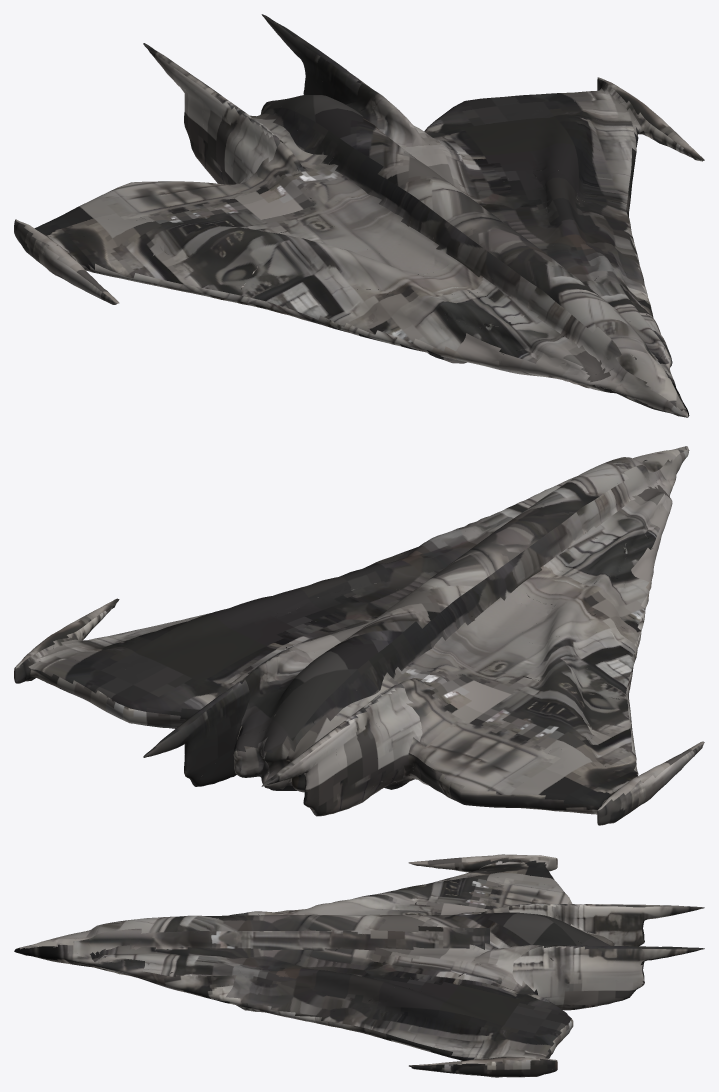
File: naves Enemiga 2 .fbx
3 renders of one model, top to bottom at view 1: azimuth 30°, elevation 25°; view 2: azimuth 150°, elevation 25°; view 3: azimuth 270°, elevation 25°, orthographic. The views are drawn at different scales.
Visible parts, largest first — view 1: Nave enemiga 2, Nave enemiga 2_cell.001, Nave enemiga 2_cell.007, Nave enemiga 2_cell.013, Nave enemiga 2_cell.063, Nave enemiga 2_cell.015, Nave enemiga 2_cell.025, Nave enemiga 2_cell.062, Nave enemiga 2_cell.017, Nave enemiga 2_cell.072, Nave enemiga 2_cell.023, Nave enemiga 2_cell.032 (+29 smaller); view 2: Nave enemiga 2, Nave enemiga 2_cell.001, Nave enemiga 2_cell.050, Nave enemiga 2_cell.088, Nave enemiga 2_cell.017, Nave enemiga 2_cell.040, Nave enemiga 2_cell.032, Nave enemiga 2_cell.072, Nave enemiga 2_cell.013, Nave enemiga 2_cell.007, Nave enemiga 2_cell.041, Nave enemiga 2_cell.016 (+31 smaller); view 3: Nave enemiga 2, Nave enemiga 2_cell.072, Nave enemiga 2_cell.073, Nave enemiga 2_cell.078, Nave enemiga 2_cell.001, Nave enemiga 2_cell.062, Nave enemiga 2_cell.032, Nave enemiga 2_cell.054, Nave enemiga 2_cell.036, Nave enemiga 2_cell.041, Nave enemiga 2_cell.097, Nave enemiga 2_cell.029 (+16 smaller).
Boxes of the visible parts, x1,y1,x2,y2 form: Nave enemiga 2: [14, 14, 704, 417]; Nave enemiga 2_cell.001: [154, 177, 317, 258]; Nave enemiga 2_cell.007: [265, 246, 406, 295]; Nave enemiga 2_cell.013: [499, 269, 617, 355]; Nave enemiga 2_cell.063: [506, 313, 612, 389]; Nave enemiga 2_cell.015: [43, 236, 159, 289]; Nave enemiga 2_cell.025: [294, 138, 414, 206]; Nave enemiga 2_cell.062: [545, 172, 643, 280]; Nave enemiga 2_cell.017: [234, 106, 301, 181]; Nave enemiga 2_cell.072: [467, 216, 622, 284]; Nave enemiga 2_cell.023: [424, 322, 500, 368]; Nave enemiga 2_cell.032: [427, 182, 493, 272]; Nave enemiga 2: [14, 446, 704, 825]; Nave enemiga 2_cell.001: [433, 670, 595, 741]; Nave enemiga 2_cell.050: [421, 705, 524, 778]; Nave enemiga 2_cell.088: [279, 647, 394, 691]; Nave enemiga 2_cell.017: [327, 678, 438, 731]; Nave enemiga 2_cell.040: [495, 637, 628, 700]; Nave enemiga 2_cell.032: [423, 551, 541, 603]; Nave enemiga 2_cell.072: [408, 503, 544, 573]; Nave enemiga 2_cell.013: [535, 467, 653, 550]; Nave enemiga 2_cell.007: [525, 601, 620, 686]; Nave enemiga 2_cell.041: [210, 669, 287, 763]; Nave enemiga 2_cell.016: [18, 657, 118, 707]; Nave enemiga 2: [14, 854, 704, 1077]; Nave enemiga 2_cell.072: [208, 915, 312, 991]; Nave enemiga 2_cell.073: [394, 921, 478, 989]; Nave enemiga 2_cell.078: [148, 932, 221, 980]; Nave enemiga 2_cell.001: [417, 878, 496, 915]; Nave enemiga 2_cell.062: [254, 969, 393, 1016]; Nave enemiga 2_cell.032: [304, 914, 375, 951]; Nave enemiga 2_cell.054: [334, 922, 413, 988]; Nave enemiga 2_cell.036: [159, 957, 257, 1010]; Nave enemiga 2_cell.041: [543, 931, 614, 1006]; Nave enemiga 2_cell.097: [405, 994, 492, 1052]; Nave enemiga 2_cell.029: [500, 945, 568, 1027].
Bounding box in the file's own units: 136 × 26.07 × 190.
